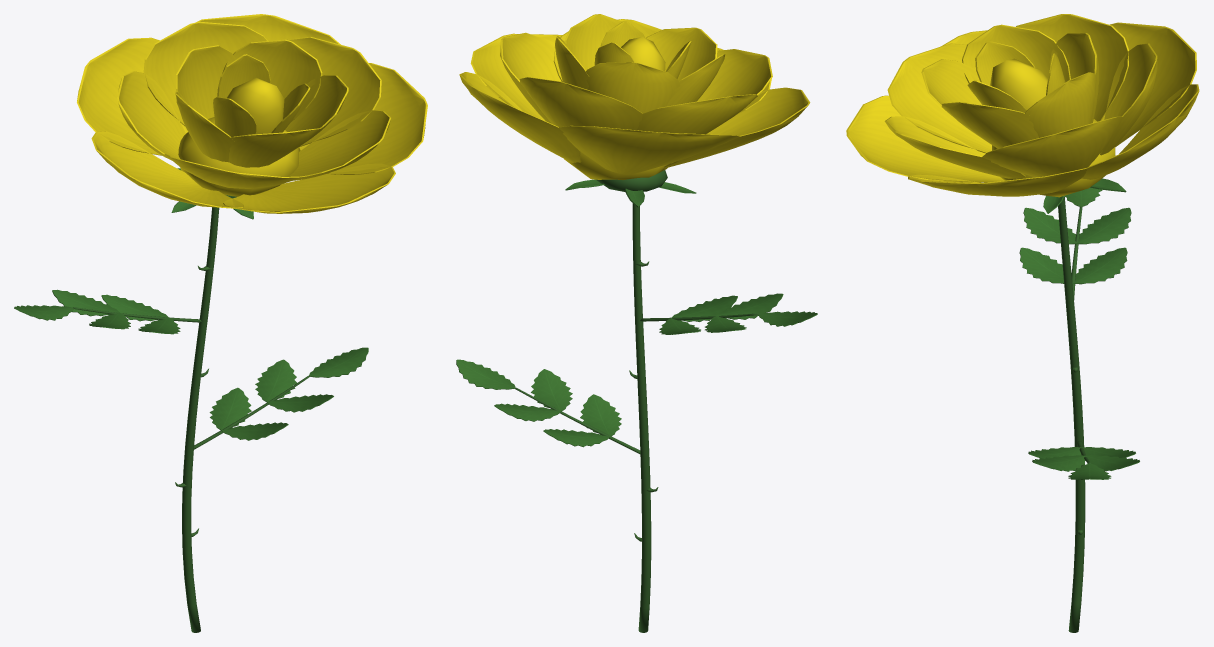
Rendered from rosa-gialla.glb.
3 views of the same model, side by side, from view 1: azimuth 30°, elevation 25°; view 2: azimuth 150°, elevation 25°; view 3: azimuth 270°, elevation 25° (orthographic). The views are drawn at different scales.
Parts seen in each view (by area): view 1: Rose Rose layer 1 curved petal 3, Rose Rose layer 1 curved petal 5, Rose Rose layer 1 curved petal 1, Rose Rose layer 1 curved petal 4, Rose Rose layer 2 curved petal 2, Cut stem, Rose Rose layer 2 curved petal 1, Rose Rose layer 2 curved petal 3, Rose Rose layer 2 curved petal 5, Rose Rose layer 3 curved petal 1, Rose Rose layer 3 curved petal 2, Rose Rose seated inner petal base (+17 smaller); view 2: Rose Rose layer 1 curved petal 3, Cut stem, Rose Rose layer 2 curved petal 2, Rose Rose layer 1 curved petal 4, Rose Rose layer 3 curved petal 2, Rose Rose layer 1 curved petal 2, Rose Rose layer 2 curved petal 3, Rose Rose layer 2 curved petal 1, Rose Rose layer 2 curved petal 4, Rose Rose layer 1 curved petal 1, Rose Rose layer 3 curved petal 4, Rose Rose layer 3 curved petal 5 (+15 smaller); view 3: Rose Rose layer 1 curved petal 5, Rose Rose layer 2 curved petal 1, Rose Rose layer 2 curved petal 4, Rose Rose layer 1 curved petal 3, Cut stem, Rose Rose layer 2 curved petal 3, Rose Rose layer 2 curved petal 2, Rose Rose layer 3 curved petal 1, Rose Rose layer 2 curved petal 5, Rose Rose layer 1 curved petal 2, Rose Rose layer 3 curved petal 5, Rose Rose layer 3 curved petal 3 (+13 smaller).
Part boxes in pixels (left/top/right/bottom): Rose Rose layer 1 curved petal 3: left=77, top=37, right=187, bottom=155; Rose Rose layer 1 curved petal 5: left=223, top=163, right=395, bottom=213; Rose Rose layer 1 curved petal 1: left=299, top=63, right=427, bottom=174; Rose Rose layer 1 curved petal 4: left=91, top=131, right=243, bottom=208; Rose Rose layer 2 curved petal 2: left=143, top=21, right=267, bottom=125; Cut stem: left=182, top=207, right=219, bottom=632; Rose Rose layer 2 curved petal 1: left=287, top=36, right=381, bottom=146; Rose Rose layer 2 curved petal 3: left=117, top=71, right=185, bottom=160; Rose Rose layer 2 curved petal 5: left=288, top=110, right=391, bottom=180; Rose Rose layer 3 curved petal 1: left=222, top=39, right=322, bottom=121; Rose Rose layer 3 curved petal 2: left=176, top=45, right=236, bottom=118; Rose Rose seated inner petal base: left=178, top=117, right=300, bottom=196; Rose Rose layer 1 curved petal 3: left=558, top=125, right=739, bottom=174; Cut stem: left=632, top=203, right=651, bottom=632; Rose Rose layer 2 curved petal 2: left=519, top=77, right=642, bottom=130; Rose Rose layer 1 curved petal 4: left=664, top=87, right=810, bottom=168; Rose Rose layer 3 curved petal 2: left=586, top=62, right=680, bottom=113; Rose Rose layer 1 curved petal 2: left=459, top=72, right=581, bottom=162; Rose Rose layer 2 curved petal 3: left=636, top=94, right=757, bottom=134; Rose Rose layer 2 curved petal 1: left=500, top=32, right=561, bottom=123; Rose Rose layer 2 curved petal 4: left=697, top=49, right=772, bottom=101; Rose Rose layer 1 curved petal 1: left=470, top=33, right=562, bottom=120; Rose Rose layer 3 curved petal 4: left=646, top=27, right=717, bottom=80; Rose Rose layer 3 curved petal 5: left=564, top=14, right=621, bottom=70; Rose Rose layer 1 curved petal 5: left=846, top=95, right=1004, bottom=182; Rose Rose layer 2 curved petal 1: left=982, top=116, right=1122, bottom=177; Rose Rose layer 2 curved petal 4: left=887, top=43, right=991, bottom=153; Rose Rose layer 1 curved petal 3: left=1101, top=22, right=1196, bottom=146; Cut stem: left=1058, top=196, right=1085, bottom=632; Rose Rose layer 2 curved petal 3: left=1016, top=14, right=1128, bottom=121; Rose Rose layer 2 curved petal 2: left=1100, top=43, right=1157, bottom=155; Rose Rose layer 3 curved petal 1: left=1025, top=72, right=1096, bottom=137; Rose Rose layer 2 curved petal 5: left=884, top=116, right=1025, bottom=178; Rose Rose layer 1 curved petal 2: left=1081, top=84, right=1199, bottom=179; Rose Rose layer 3 curved petal 5: left=942, top=102, right=1038, bottom=148; Rose Rose layer 3 curved petal 3: left=962, top=24, right=1070, bottom=83.
Size of the model in its own units: 0.2096 by 0.3169 by 0.1694.
3 materials, 3 textured.
